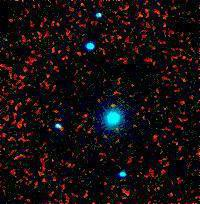star: (98, 89, 128, 119)
